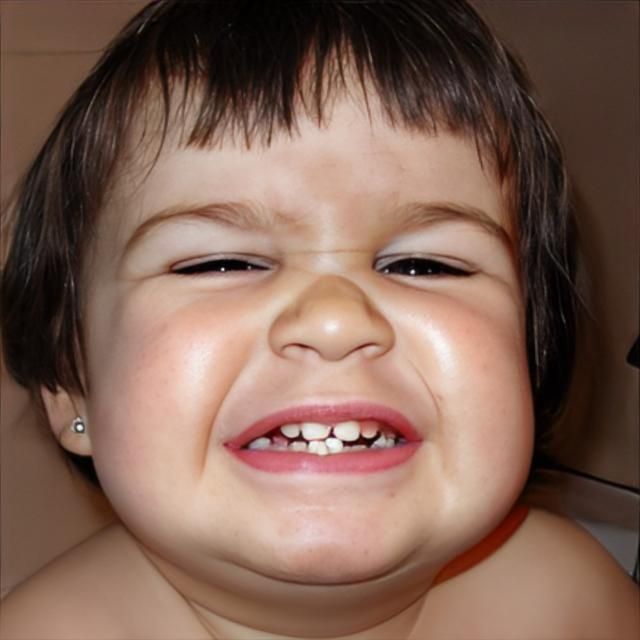disgust: (92, 35, 536, 589)
